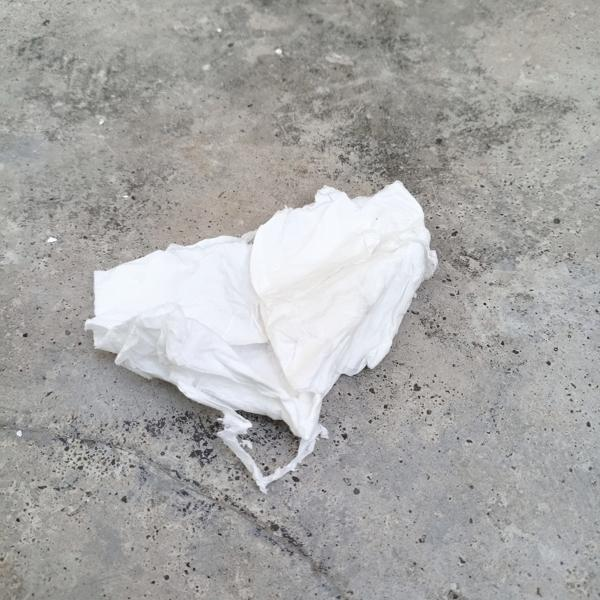Organik: (67, 176, 444, 489)
